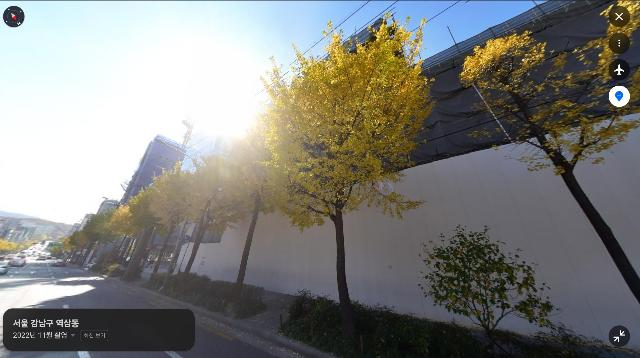ginkgo: (253, 11, 438, 345), (457, 0, 640, 304), (190, 126, 303, 318), (140, 157, 232, 287), (106, 178, 189, 281), (86, 198, 154, 276)
